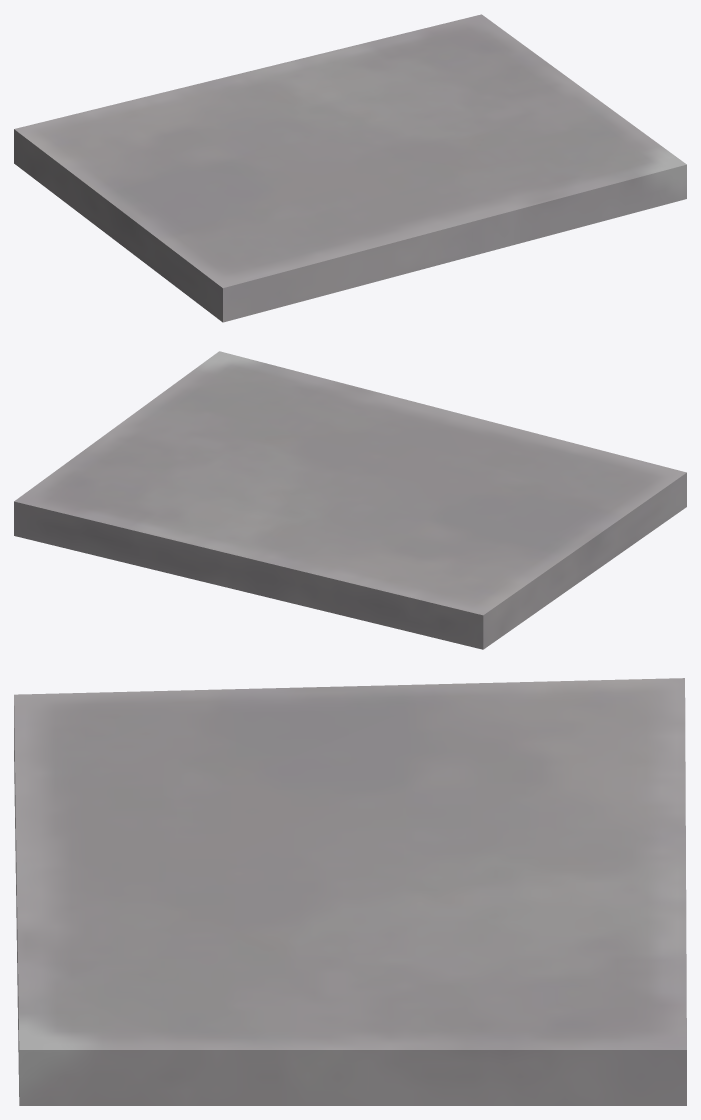
The model's file is Pfb_MetalBoard.fbx.
3 renders of one model, top to bottom at view 1: azimuth 30°, elevation 25°; view 2: azimuth 150°, elevation 25°; view 3: azimuth 270°, elevation 25°, orthographic. The views are drawn at different scales.
Parts seen in each view (by area): view 1: Mat_MetalBoard_01_1 _Ground; view 2: Mat_MetalBoard_01_1 _Ground; view 3: Mat_MetalBoard_01_1 _Ground.
Boxes of the visible parts, x1,y1,x2,y2 form: Mat_MetalBoard_01_1 _Ground: (14, 14, 686, 322); Mat_MetalBoard_01_1 _Ground: (14, 351, 686, 649); Mat_MetalBoard_01_1 _Ground: (14, 678, 686, 1105).
Size of the model in its own units: 0.5996 by 0.0529 by 0.4587.
Materials: 1 (1 with a texture image).
